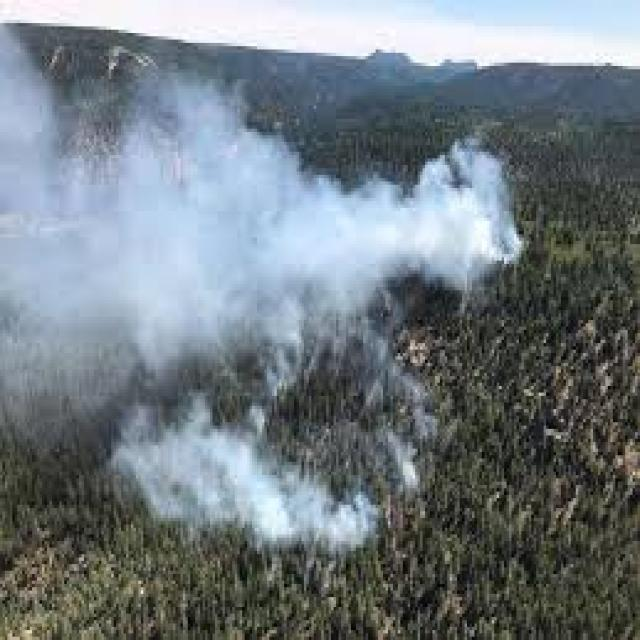Smoke: (0, 81, 527, 356), (115, 389, 415, 576)
